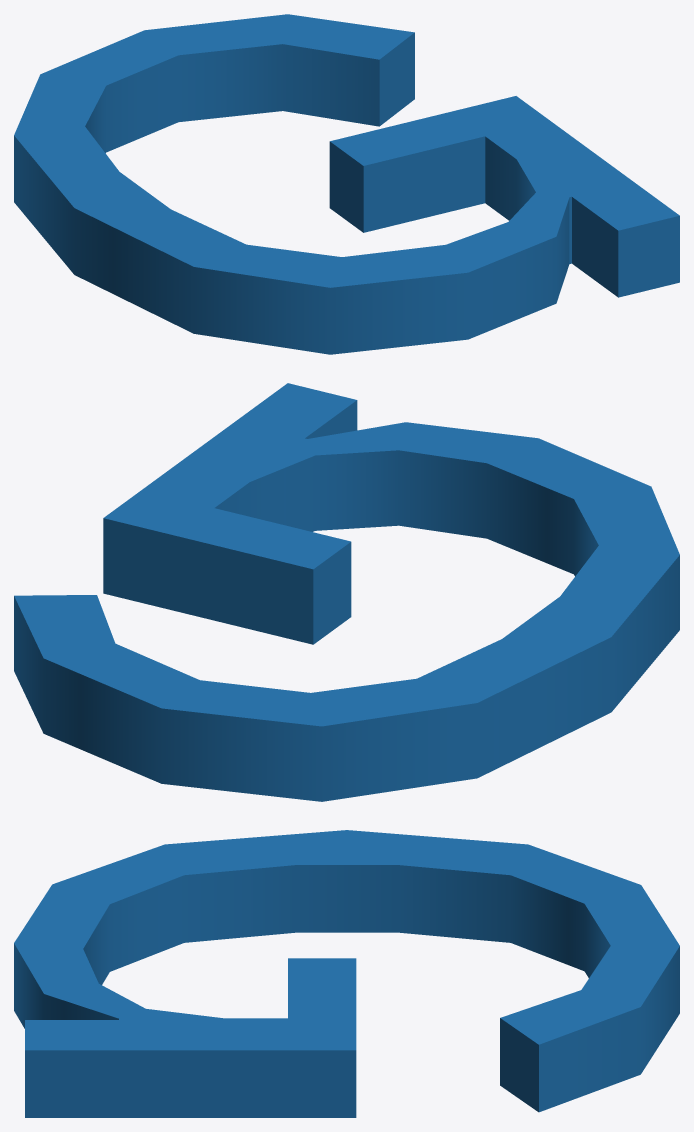
The picture shows the model from 3 angles, top to bottom: view 1: azimuth 30°, elevation 25°; view 2: azimuth 150°, elevation 25°; view 3: azimuth 270°, elevation 25°; orthographic projection. The views are drawn at different scales.
Visible parts, largest first — view 1: G; view 2: G; view 3: G.
Boxes of the visible parts, box(x1,y1,x2,y2) form: G: box(14, 14, 679, 354); G: box(14, 383, 679, 801); G: box(14, 830, 679, 1117).
Bounding box in the file's own units: 0.1752 × 0.0251 × 0.2239.
